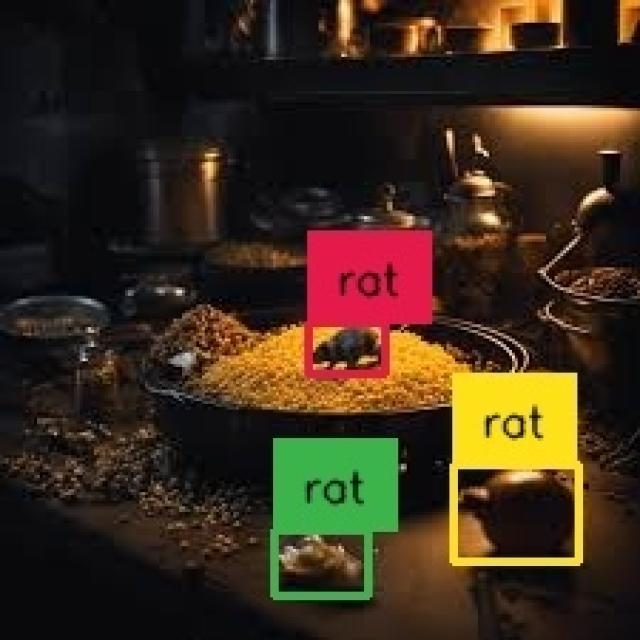rat: (455, 467, 578, 563), (274, 530, 368, 596), (307, 323, 387, 374)
